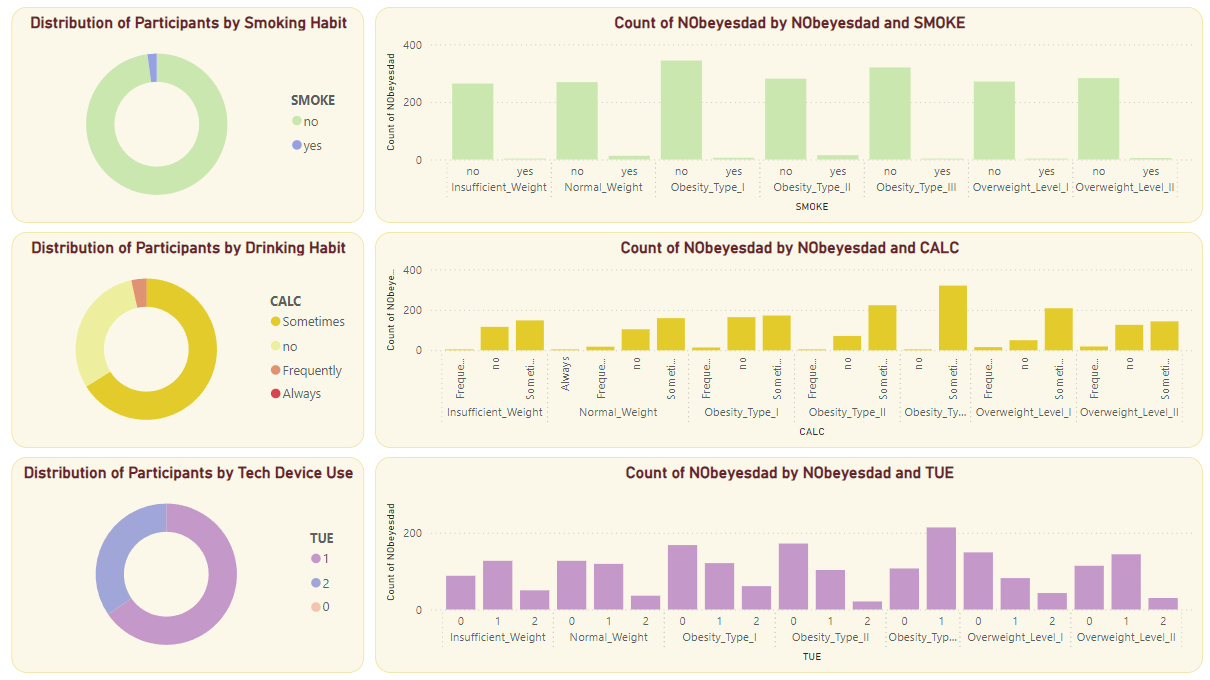

The dashboard page shown, as its layout file describes it:
{"tool":"powerbi","page":{"name":"Page 3","canvas":[1280,720],"ordinal":2},"visuals":[{"type":"lineStackedColumnComboChart","fields":{"Category":["obersity.NObeyesdad","obersity.SMOKE"],"Y":["CountNonNull(obersity.NObeyesdad)"]},"box":[395.7,10,871.4,227.1],"z":0},{"type":"donutChart","title":"Distribution of Participants by Smoking Habit","fields":{"Category":["obersity.SMOKE"],"Y":["CountNonNull(obersity.SMOKE)"]},"box":[12.9,10,371.4,227.1],"z":1000},{"type":"donutChart","title":"Distribution of Participants by Drinking Habit","fields":{"Y":["CountNonNull(obersity.CALC)"],"Category":["obersity.CALC"]},"box":[12.9,247.1,371.4,227.1],"z":2000},{"type":"donutChart","title":"Distribution of Participants by Tech Device Use","fields":{"Y":["Sum(obersity.TUE)"],"Category":["obersity.TUE"]},"box":[12.9,484.3,371.4,227.1],"z":3000},{"type":"lineStackedColumnComboChart","fields":{"Category":["obersity.NObeyesdad","obersity.CALC"],"Y":["CountNonNull(obersity.NObeyesdad)"]},"box":[395.7,247.1,871.4,227.1],"z":4000},{"type":"lineStackedColumnComboChart","fields":{"Category":["obersity.NObeyesdad","obersity.TUE"],"Y":["CountNonNull(obersity.NObeyesdad)"]},"box":[395.7,484.3,871.4,227.1],"z":5000}]}

Visuals, with their boxes in screenshot pixels (x1, y1, x2, y2), scaled from the page's 1280x720 canvas onto the 1210x680 screenshot:
lineStackedColumnComboChart - obersity.NObeyesdad x obersity.SMOKE: detection(374, 9, 1198, 224)
"Distribution of Participants by Smoking Habit" donutChart: detection(12, 9, 363, 224)
"Distribution of Participants by Drinking Habit" donutChart: detection(12, 233, 363, 448)
"Distribution of Participants by Tech Device Use" donutChart: detection(12, 457, 363, 672)
lineStackedColumnComboChart - obersity.NObeyesdad x obersity.CALC: detection(374, 233, 1198, 448)
lineStackedColumnComboChart - obersity.NObeyesdad x obersity.TUE: detection(374, 457, 1198, 672)
